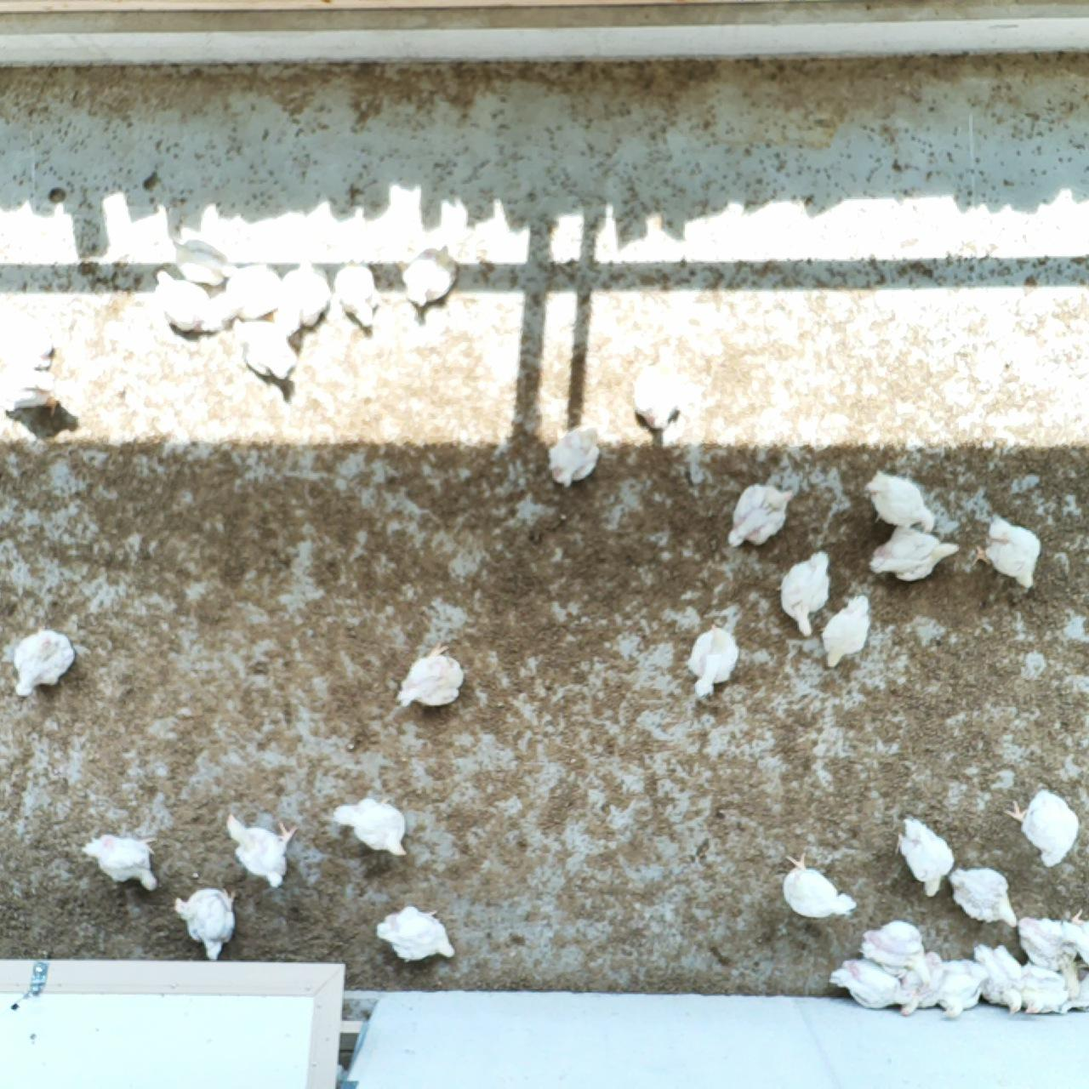chicken: (1008, 786, 1082, 870), (224, 814, 299, 892), (780, 849, 861, 921), (973, 513, 1041, 596), (868, 526, 963, 585), (372, 903, 457, 968), (174, 883, 242, 963), (333, 793, 411, 862), (863, 466, 936, 536), (395, 642, 469, 710), (947, 860, 1014, 935), (780, 547, 835, 637), (272, 255, 329, 341), (627, 357, 689, 436), (229, 317, 302, 383), (80, 831, 160, 891), (728, 479, 798, 545), (207, 262, 278, 327), (10, 630, 77, 698), (895, 812, 949, 896), (401, 240, 462, 312), (149, 267, 211, 337), (684, 624, 740, 700), (968, 942, 1026, 1015), (856, 921, 931, 977), (832, 957, 909, 1010), (0, 361, 65, 423), (821, 593, 872, 670), (542, 425, 602, 490), (164, 232, 233, 287), (0, 312, 60, 375), (897, 951, 951, 1019), (1015, 912, 1076, 972), (334, 253, 379, 332), (938, 955, 988, 1017), (1016, 959, 1071, 1015), (1059, 956, 1089, 1017), (1059, 907, 1089, 967)
